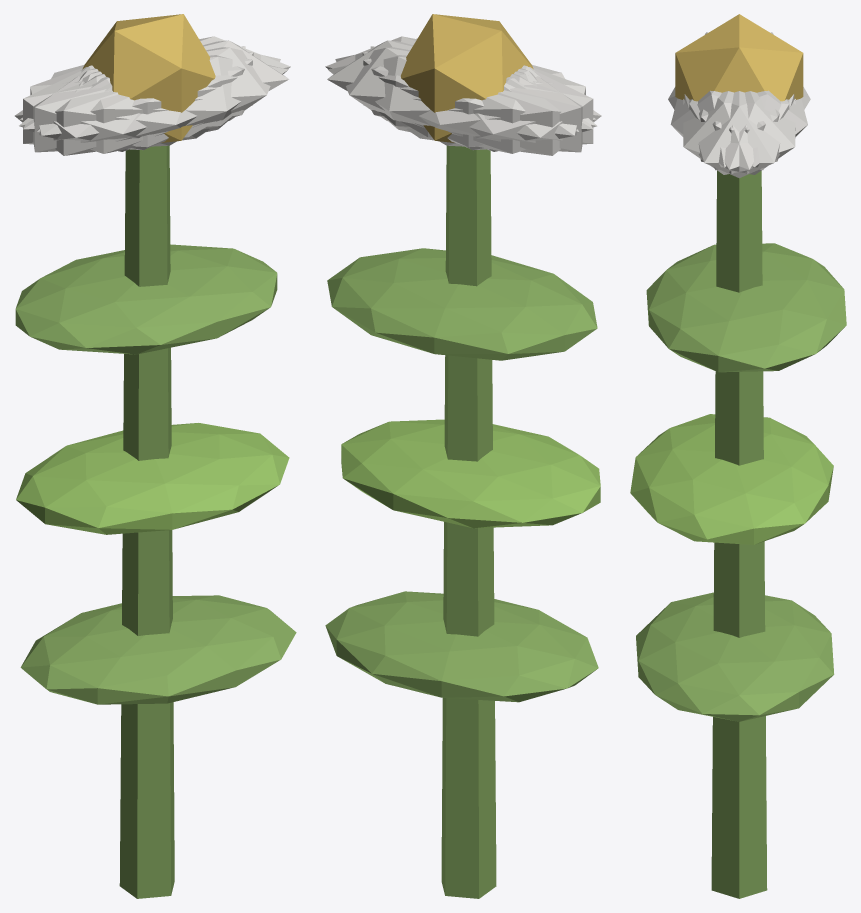
File: turnera-ulmifolia.glb
3 views of the same model, side by side, from view 1: azimuth 30°, elevation 25°; view 2: azimuth 150°, elevation 25°; view 3: azimuth 270°, elevation 25° (orthographic).
Parts seen in each view (by area): view 1: stem, leaf1, leaf0, leaf2, center, petal1, petal6, petal2, petal5, petal7, petal0, petal4 (+2 smaller); view 2: stem, leaf2, leaf0, leaf1, center, petal8, petal3, petal7, petal4, petal2, petal0, petal5 (+2 smaller); view 3: stem, leaf2, leaf1, leaf0, center, petal0, petal4, petal5, petal8, petal1.
Boxes of the visible parts, box(x1,y1,x2,y2) form: stem: box(119, 145, 174, 898); leaf1: box(16, 423, 289, 534); leaf0: box(20, 595, 296, 704); leaf2: box(15, 244, 277, 354); center: box(82, 14, 215, 142); petal1: box(19, 55, 288, 153); petal6: box(14, 67, 209, 155); petal2: box(33, 46, 245, 152); petal5: box(37, 47, 280, 147); petal7: box(23, 52, 253, 150); petal0: box(82, 40, 288, 137); petal4: box(20, 36, 290, 129); stem: box(441, 145, 496, 898); leaf2: box(327, 248, 597, 360); leaf0: box(325, 591, 598, 702); leaf1: box(341, 419, 600, 528); center: box(400, 14, 533, 142); petal8: box(328, 55, 596, 153); petal3: box(406, 67, 601, 155); petal7: box(370, 46, 582, 152); petal4: box(335, 47, 578, 147); petal2: box(362, 52, 593, 150); petal0: box(327, 40, 533, 137); petal5: box(325, 36, 596, 129); stem: box(711, 170, 767, 898); leaf2: box(646, 243, 846, 372); leaf1: box(630, 414, 833, 544); leaf0: box(636, 592, 834, 721); center: box(675, 14, 803, 101); petal0: box(684, 91, 794, 178); petal4: box(689, 91, 795, 174); petal5: box(683, 91, 789, 174); petal8: box(699, 90, 807, 167); petal1: box(670, 90, 779, 167).
Size of the model in its own units: 0.1452 by 0.4523 by 0.1037.
